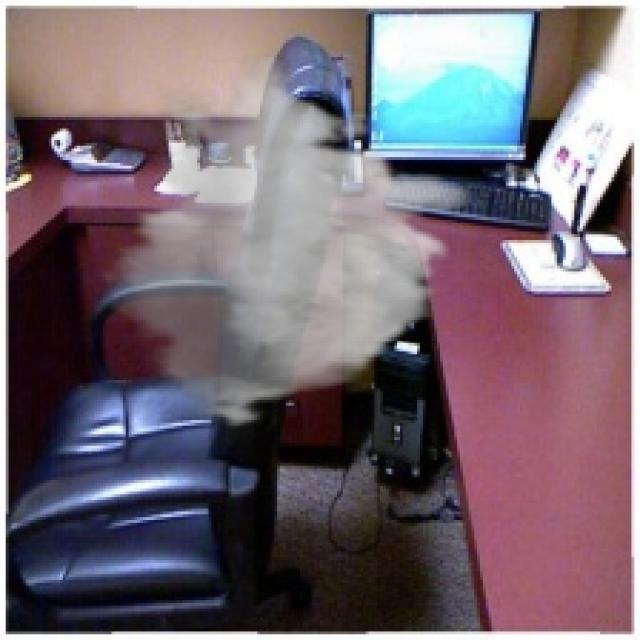smoke: (92, 54, 474, 432)
